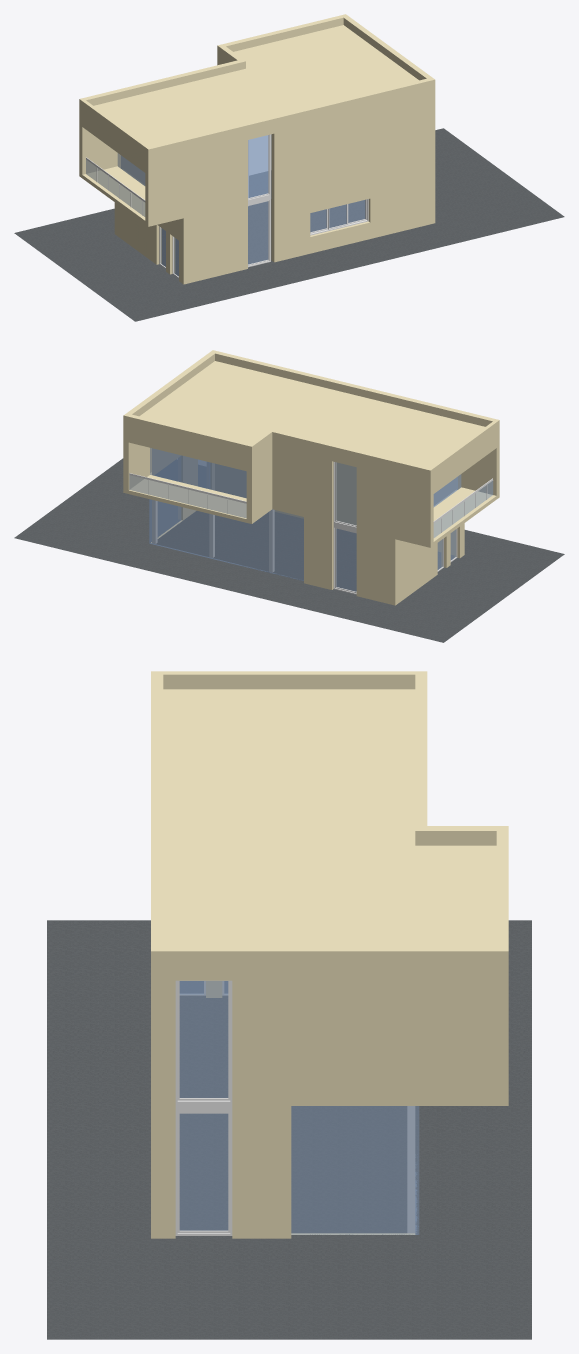
3 renders of one model, top to bottom at view 1: azimuth 30°, elevation 25°; view 2: azimuth 150°, elevation 25°; view 3: azimuth 270°, elevation 25°, orthographic. The views are drawn at different scales.
Visible parts, largest first — view 1: 5445, Root Node, 5132, W1, Component#2; view 2: 5445, Root Node, 5132, W1, Component#1; view 3: Root Node, 5445, 5132, W1, Component#1.
Boxes of the visible parts, x1=… form: 5445: x1=79, y1=14, x2=435, y2=284; Root Node: x1=14, y1=128, x2=564, y2=321; 5132: x1=94, y1=25, x2=418, y2=146; W1: x1=248, y1=134, x2=270, y2=267; Component#2: x1=310, y1=199, x2=368, y2=235; 5445: x1=123, y1=350, x2=499, y2=605; Root Node: x1=14, y1=458, x2=564, y2=642; 5132: x1=139, y1=361, x2=484, y2=467; W1: x1=333, y1=462, x2=356, y2=594; Component#1: x1=269, y1=509, x2=274, y2=572; Root Node: x1=47, y1=920, x2=531, y2=1339; 5445: x1=151, y1=671, x2=508, y2=1238; 5132: x1=163, y1=689, x2=496, y2=945; W1: x1=175, y1=980, x2=232, y2=1235; Component#1: x1=407, y1=1106, x2=415, y2=1233.
Bounding box in the file's own units: 24.42 × 7.8 × 11.94.
Materials: 238 (2 with a texture image).
